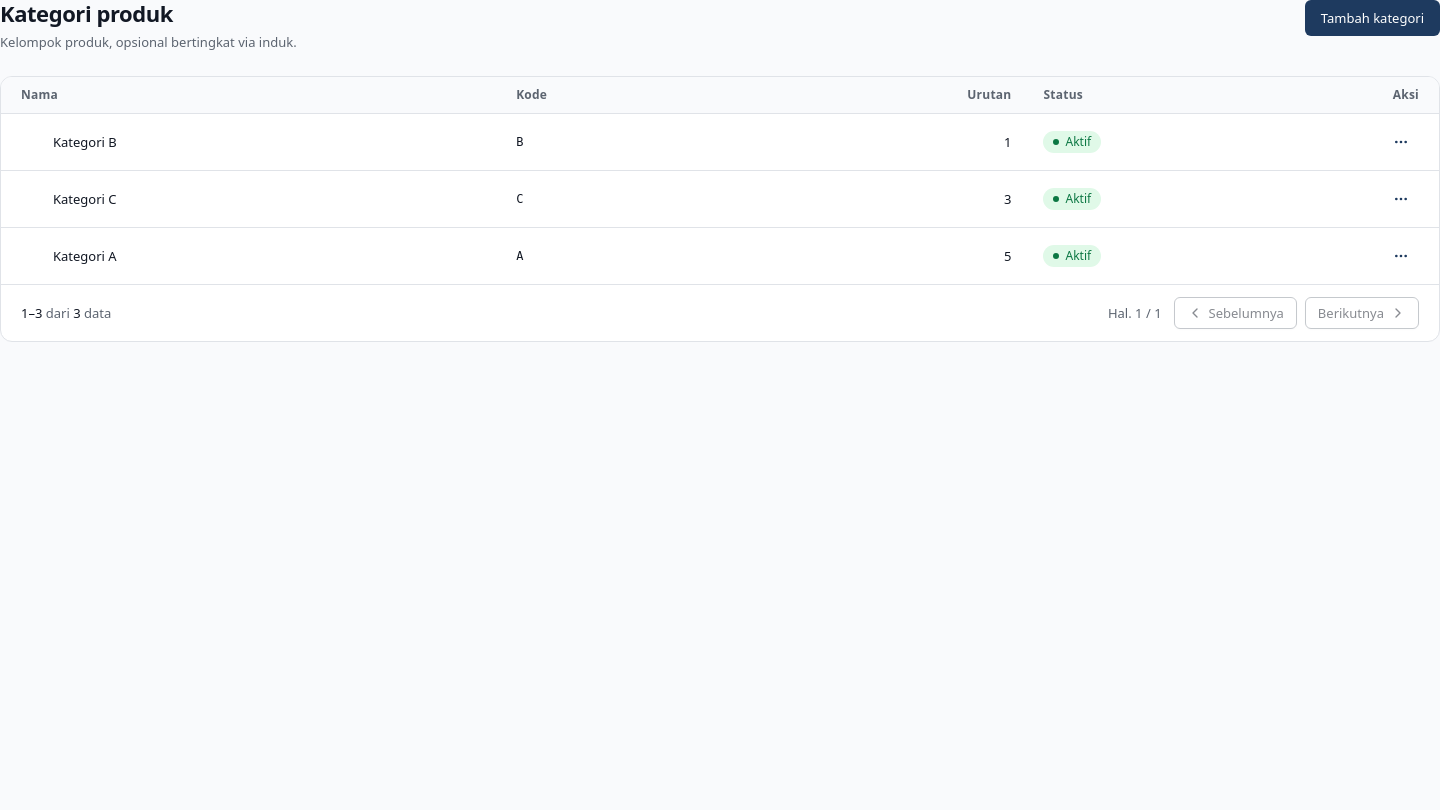
Test case: halaman kategori — urutan tampil › urutan di luar 0-9999 ditolak di klien
Expected: the text "Kategori A" is shown, [53,246,117,266]
Click the button "Tambah kategori". click: click(1372, 18)
box: [1305,0,1439,36]
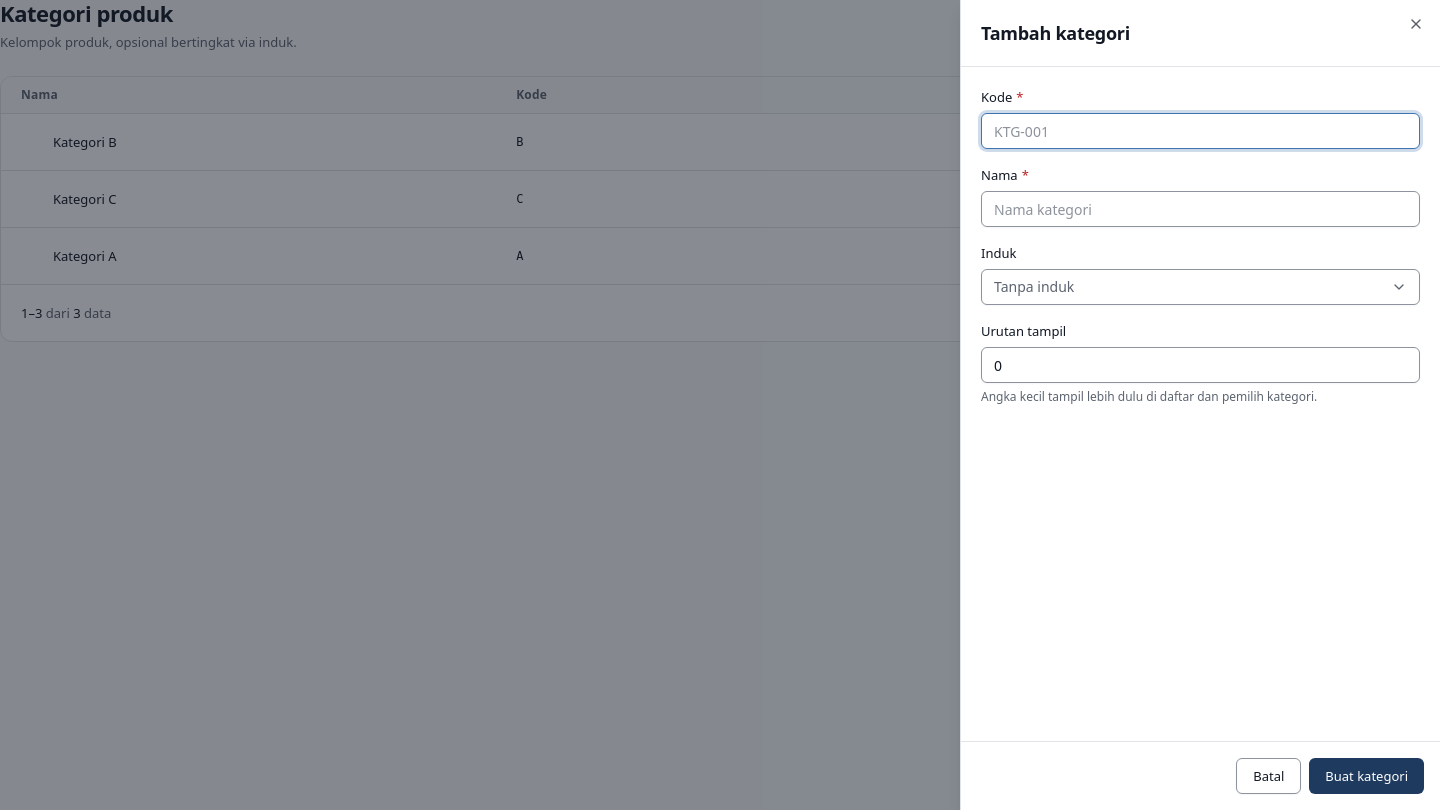
Type "NEW" into the field labelled "Kode *". click: (1200, 131)
box: [981,113,1420,149]
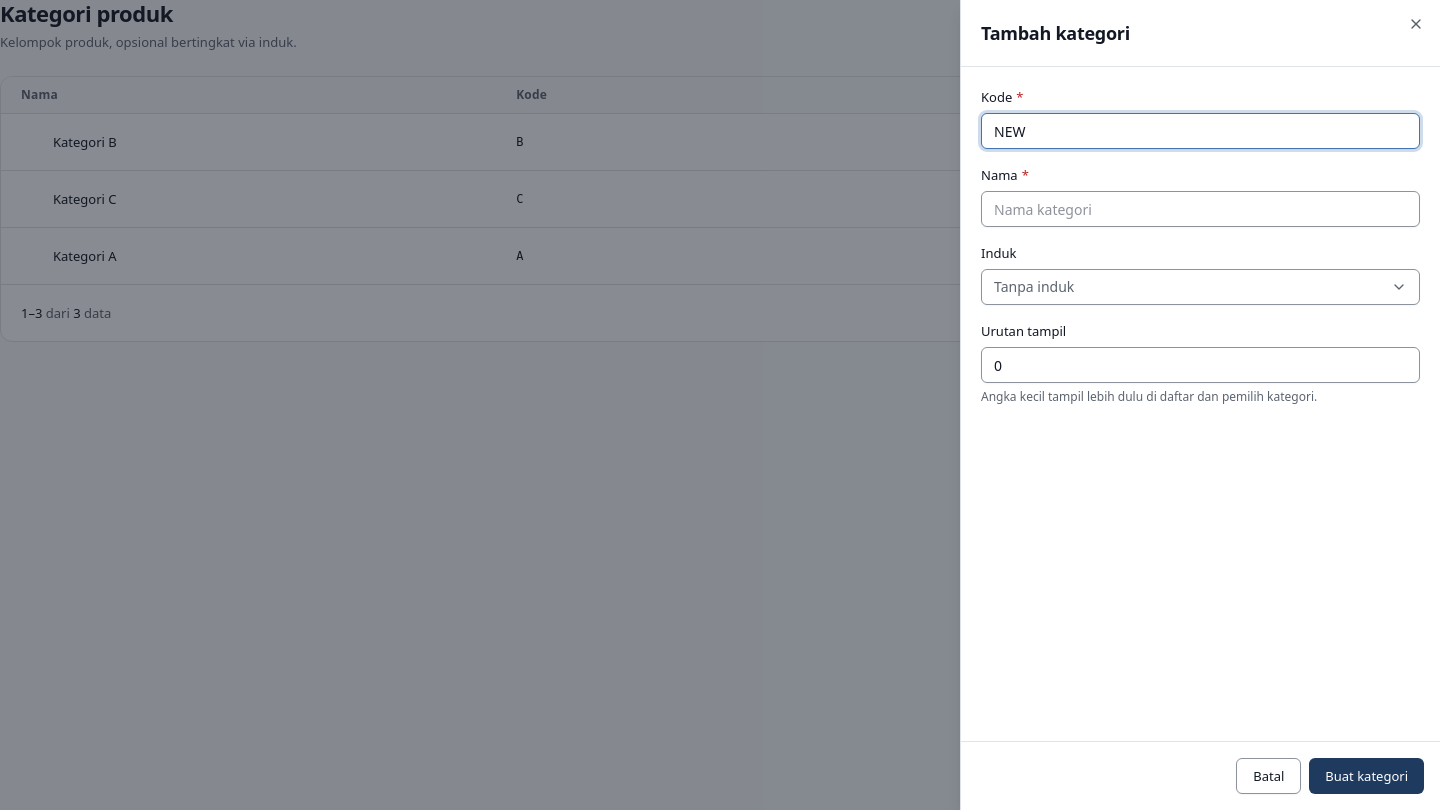
Type "Baru" into the field labelled "Nama *". click: (1200, 209)
box: [981,191,1420,227]
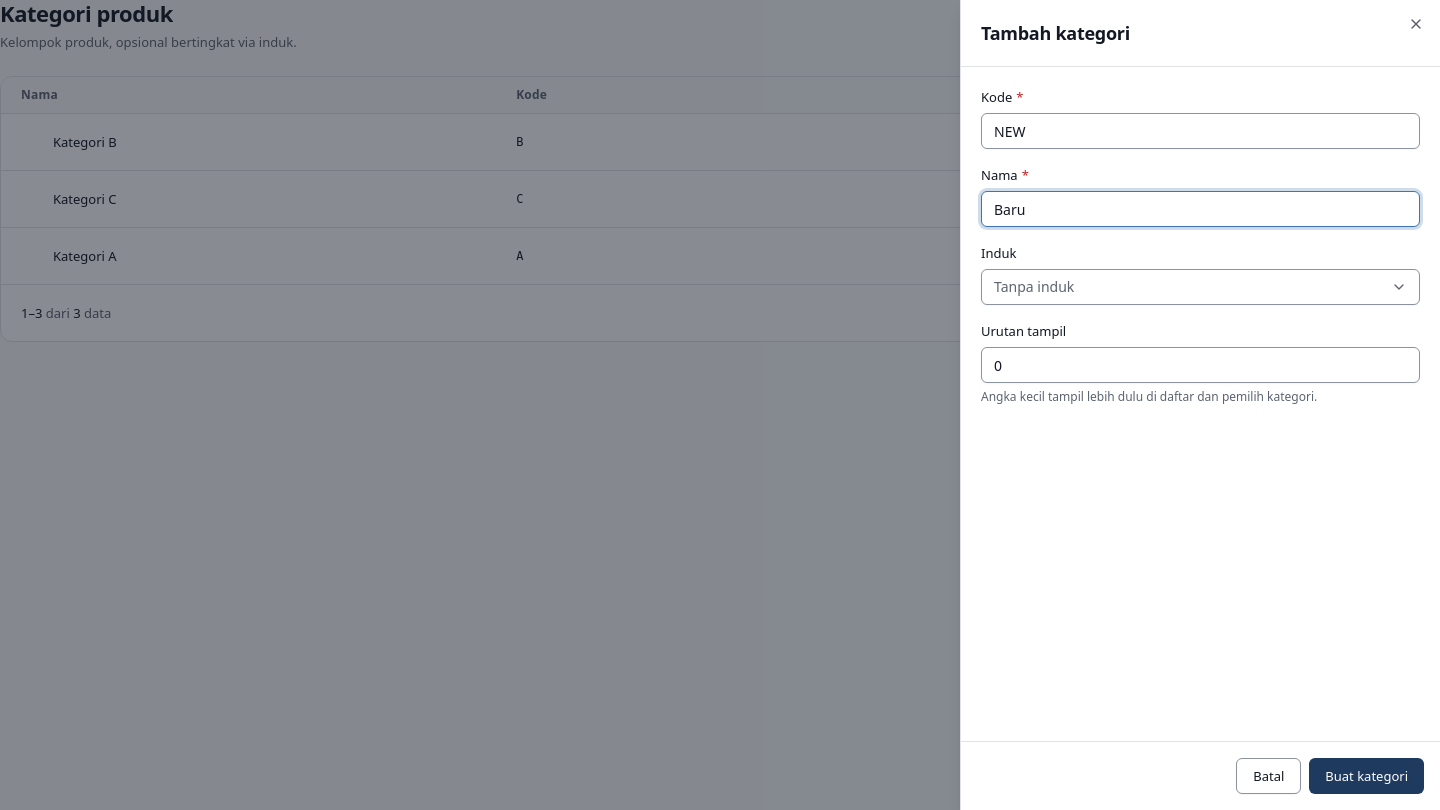
Replace the text in the number field labelled "Urutan tampil" with "10000". click: (1200, 365)
box: [981,347,1420,383]
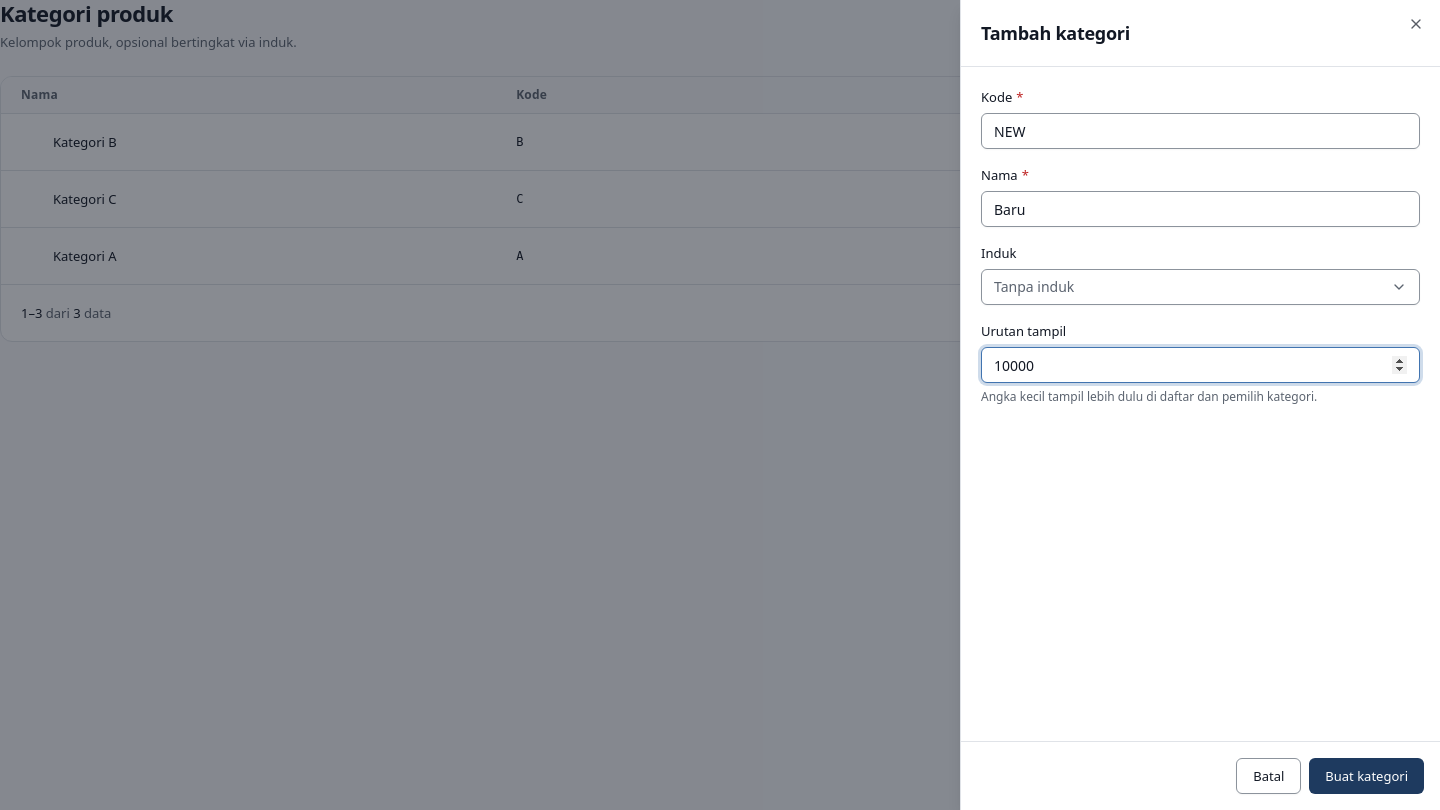
Click the button "Buat kategori". click: click(1367, 776)
box: [1309,758,1424,794]
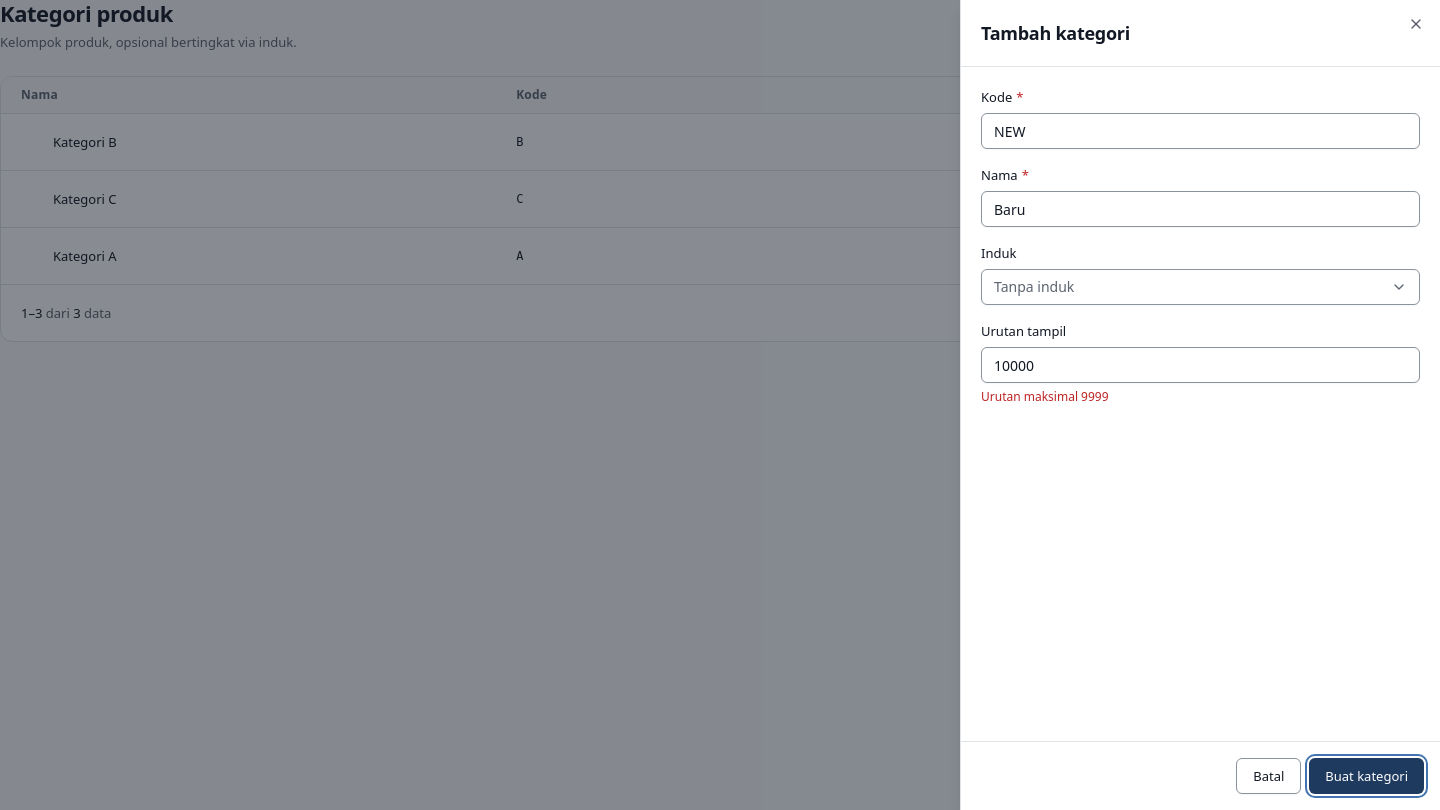
Expected: the text "Urutan maksimal 9999" is shown, [981,388,1109,405]
